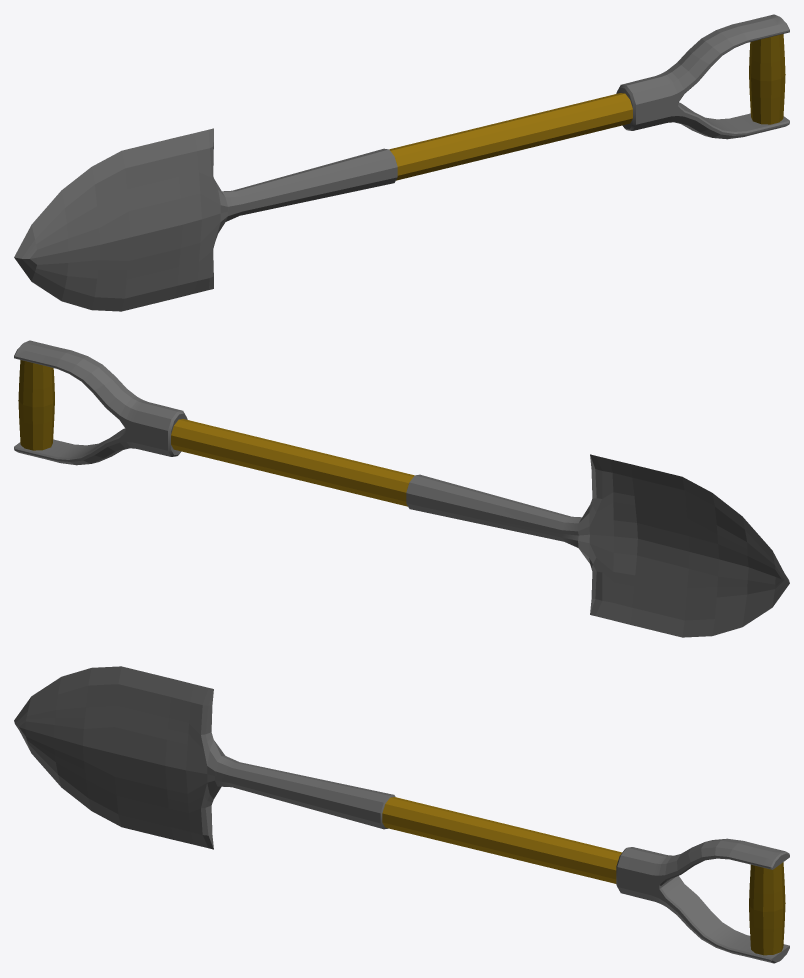
File: PalaNormal.fbx
3 renders of one model, top to bottom at view 1: azimuth 30°, elevation 25°; view 2: azimuth 150°, elevation 25°; view 3: azimuth 330°, elevation 25°, orthographic.
Visible parts, largest first — view 1: final_polySurface4; view 2: final_polySurface4; view 3: final_polySurface4.
Boxes of the visible parts, bbox=[...] form: final_polySurface4: bbox=[14, 14, 789, 311]; final_polySurface4: bbox=[14, 340, 789, 637]; final_polySurface4: bbox=[14, 666, 789, 963].
Size of the model in its own units: 75.32 by 15.05 by 3.19.
